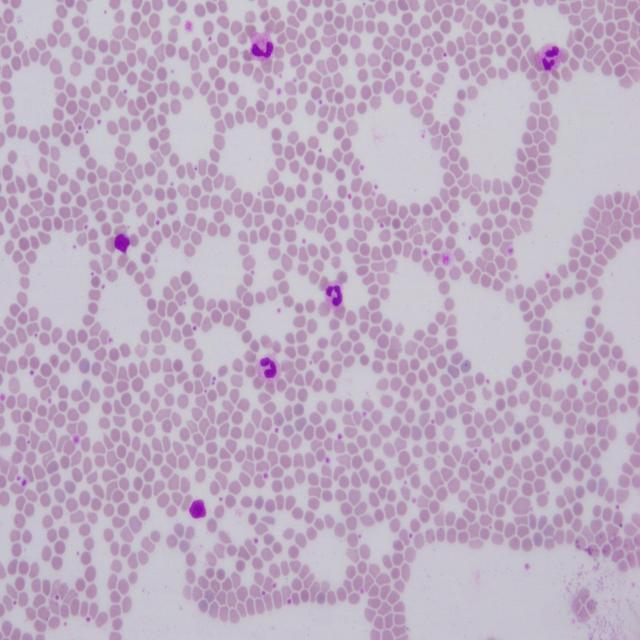cell: (256, 352, 280, 381), (536, 45, 562, 70), (250, 32, 274, 59), (325, 282, 342, 308)
